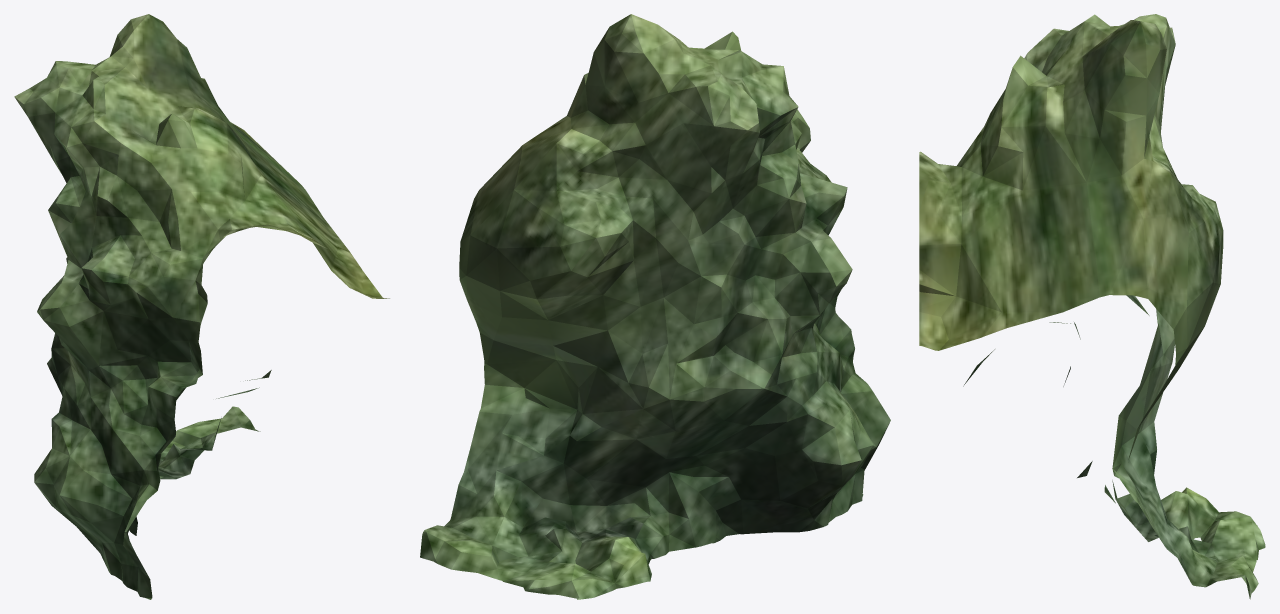
The picture shows the model from 3 angles, left to right: view 1: azimuth 30°, elevation 25°; view 2: azimuth 150°, elevation 25°; view 3: azimuth 270°, elevation 25°; orthographic projection. The views are drawn at different scales.
Bounding box in the file's own units: 5.37 × 8.32 × 5.14.
2 materials, 2 textured.
